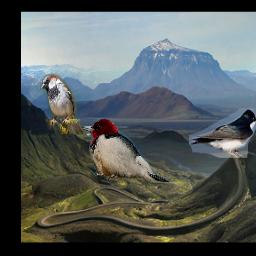Sparrow: (41, 75, 84, 135)
Swallow: (189, 109, 256, 159)
Woodpecker: (78, 119, 170, 183)
